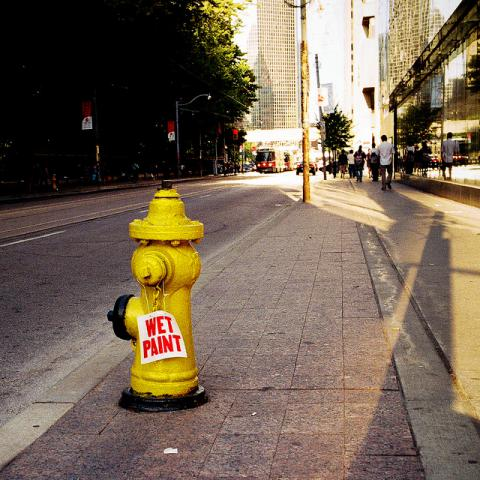bus: (255, 148, 285, 174)
car: (296, 160, 316, 176), (319, 164, 330, 171)
